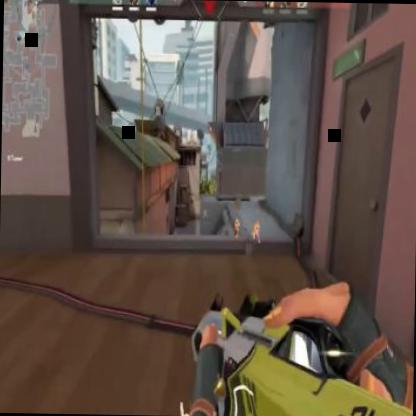enemy: (250, 219, 260, 244), (233, 217, 238, 238)
enemy_head: (255, 220, 259, 225), (236, 217, 238, 221)
